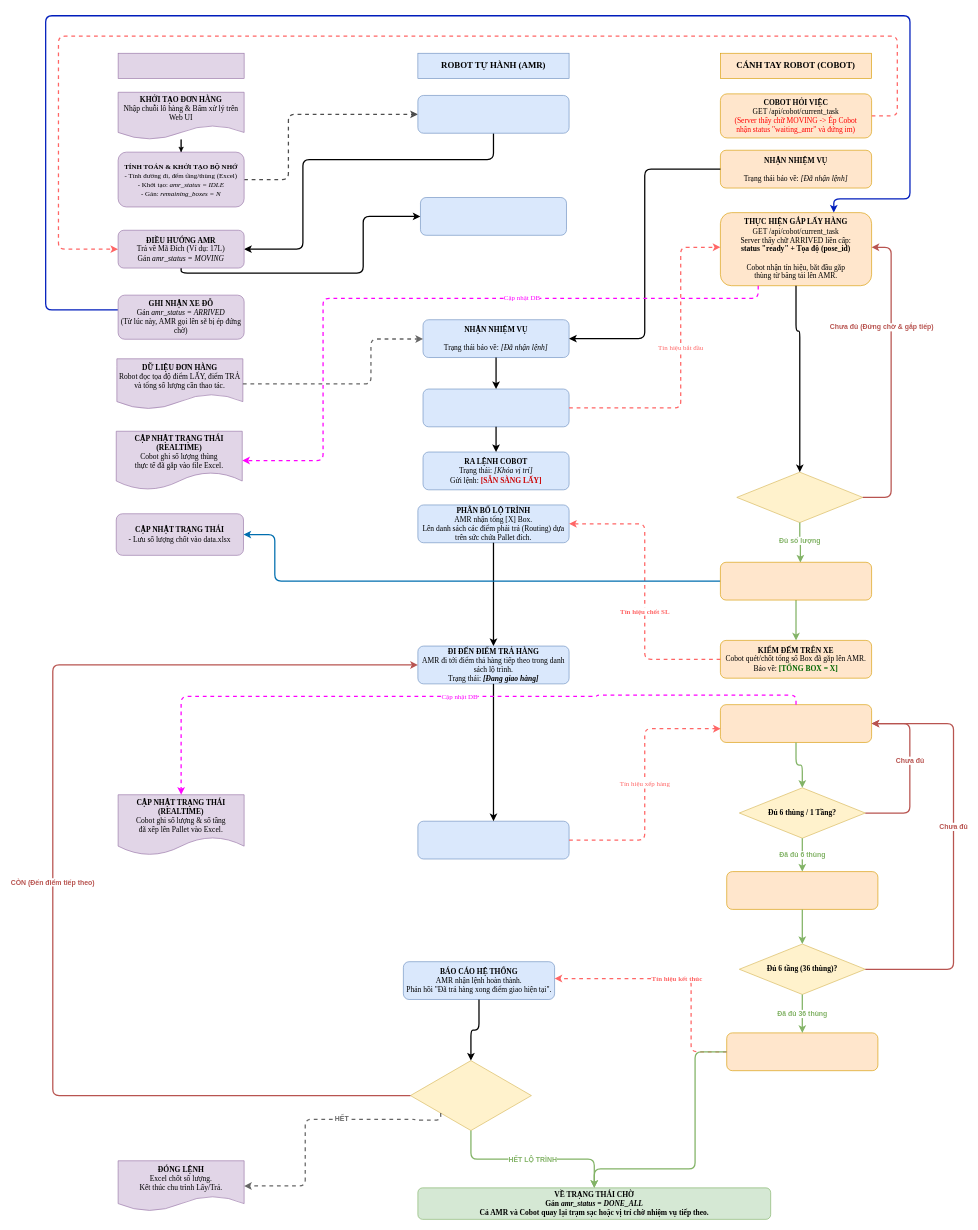
Some shapes in this 978 by 1230 pixel diagram are drawn without their labels. The centre of each missing label's shape, as x and y in pixels:
2. LIÊN TỤC HỎI ĐƯỜNG (POLLING) GET /api/amr/next_step: pixel 493 114
BÁO CÁO LẤP LỖ TRỐNG POST /records/quantity: pixel 796 581
HỆ THỐNG / EXCEL: pixel 180 65
Kiểm tra phần mềm: Còn điểm trả hàng trong lộ trình không?: pixel 470 1095
PHẢN HỒI XONG PALLET Gửi lệnh: [HOÀN THÀNH NHIỆM VỤ]: pixel 802 1051
RA LỆNH COBOT Trạng thái: [Đã đến điểm trả] Gửi lệnh: [SẴN SÀNG XẾP HÀNG]: pixel 493 840
THỰC HIỆN XẾP PALLET Cobot nhận lệnh. Bắt đầu gắp thùng từ AMR xuống Pallet.: pixel 796 723
TĂNG TẦNG PALLET Biến đếm tầng + 1. Trạng thái: [Hoàn thành 1 tầng]: pixel 802 890
ĐI LẤY HÀNG AMR di chuyển đến điểm kho. Trạng thái: [Đang di chuyển] -> [Đã đến]: pixel 495 407
Đã lấy đủ số lượng yêu cầu?: pixel 799 497
ĐẾN TRẠM, KHÓA PHANH Báo cáo: POST /api/amr/arrived: pixel 493 216
